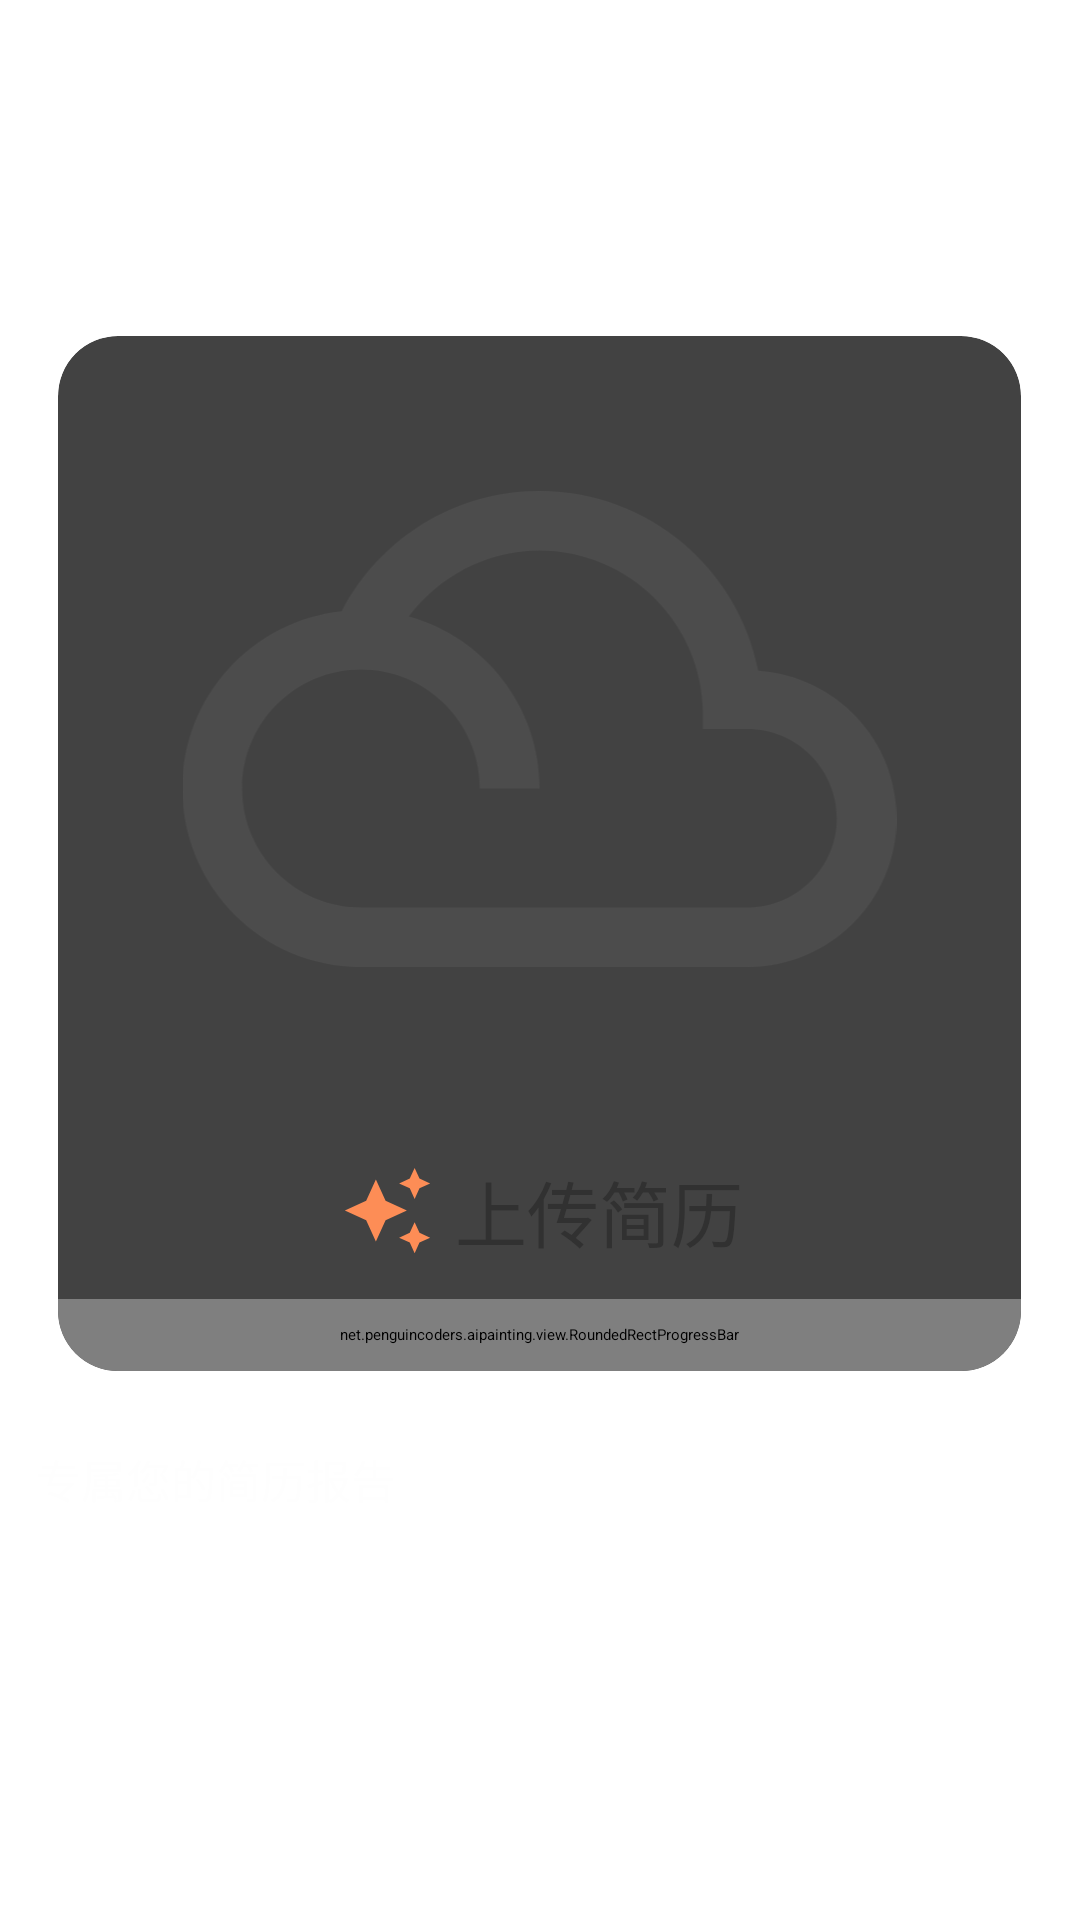

Named icons in this screenshot (1080*1920) and their bounding boxes, (x1, y1, x2, y2):
auto awesome: (345, 1168, 430, 1253)
